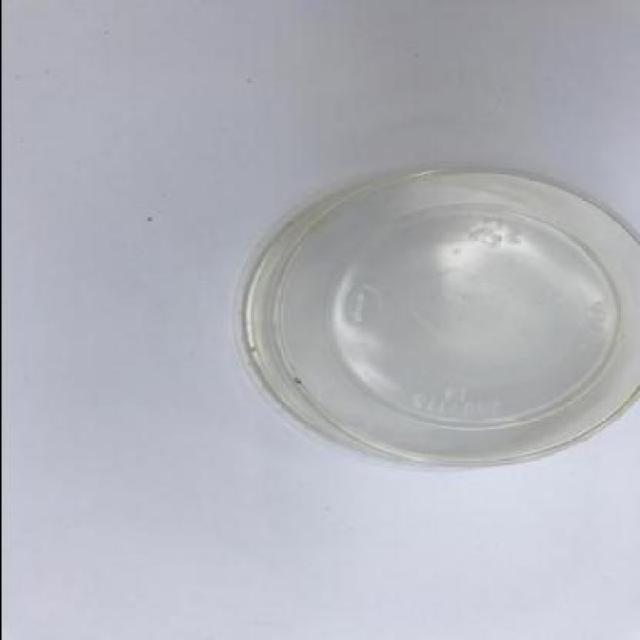PLASTIC: (244, 168, 638, 460), (272, 168, 638, 469)
